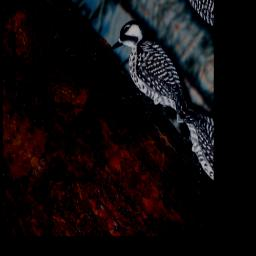Woodpecker: (97, 6, 201, 139)
